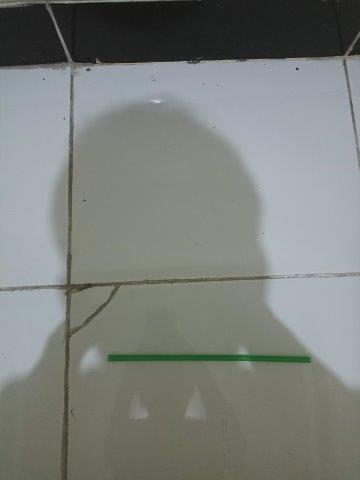sedotan: (108, 354, 311, 363)
